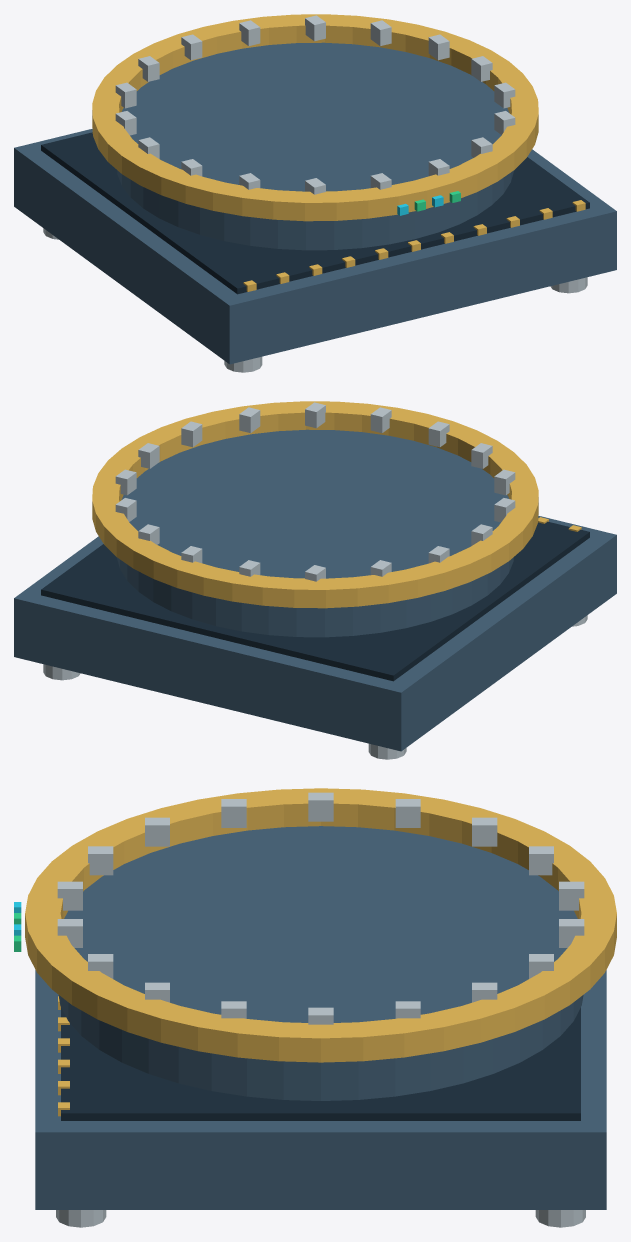
The model's file is 02_L79_BaseWaferCarrier.fbx.
3 renders of one model, top to bottom at view 1: azimuth 30°, elevation 25°; view 2: azimuth 150°, elevation 25°; view 3: azimuth 270°, elevation 25°, orthographic. The views are drawn at different scales.
Visible parts, largest first — view 1: BaseWaferCarrier; view 2: BaseWaferCarrier; view 3: BaseWaferCarrier.
Boxes of the visible parts, box(x1,y1,x2,y2) form: BaseWaferCarrier: box(14, 14, 616, 372); BaseWaferCarrier: box(14, 401, 616, 759); BaseWaferCarrier: box(14, 788, 616, 1227).
Size of the model in its own units: 200 by 77.56 by 204.
